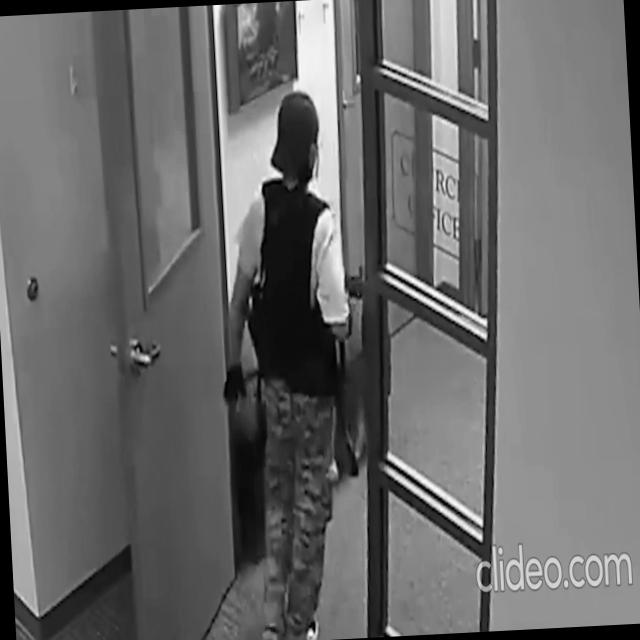gun: (340, 263, 370, 301)
person with a gun: (210, 83, 388, 640)
